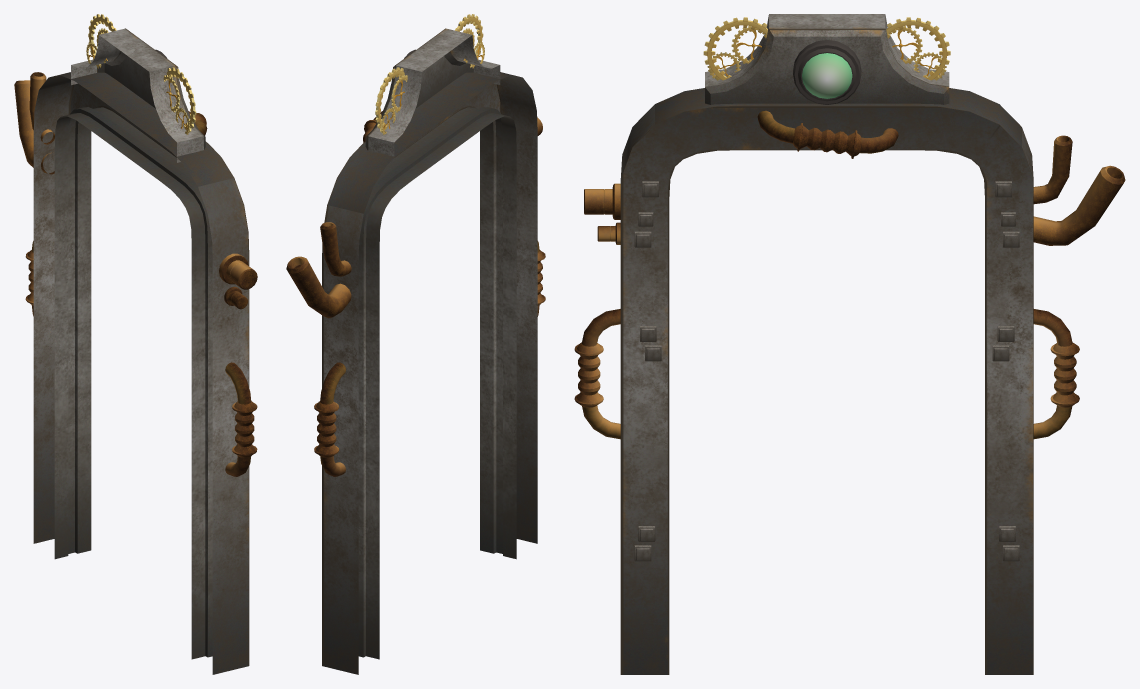
File: SteamPunkDoor.fbx
The picture shows the model from 3 angles, left to right: view 1: azimuth 30°, elevation 25°; view 2: azimuth 150°, elevation 25°; view 3: azimuth 270°, elevation 25°; orthographic projection. The views are drawn at different scales.
Visible parts, largest first — view 1: SteampunkDoor, Cogs; view 2: SteampunkDoor, Cogs; view 3: SteampunkDoor, Cogs.
Part boxes in pixels (x1,y1,x2,y2): SteampunkDoor: (14, 28, 257, 674); Cogs: (86, 14, 196, 134); SteampunkDoor: (286, 28, 545, 674); Cogs: (375, 14, 484, 134); SteampunkDoor: (574, 14, 1125, 674); Cogs: (703, 17, 950, 80).
Bounding box in the file's own units: 19.79 × 147 × 113.
